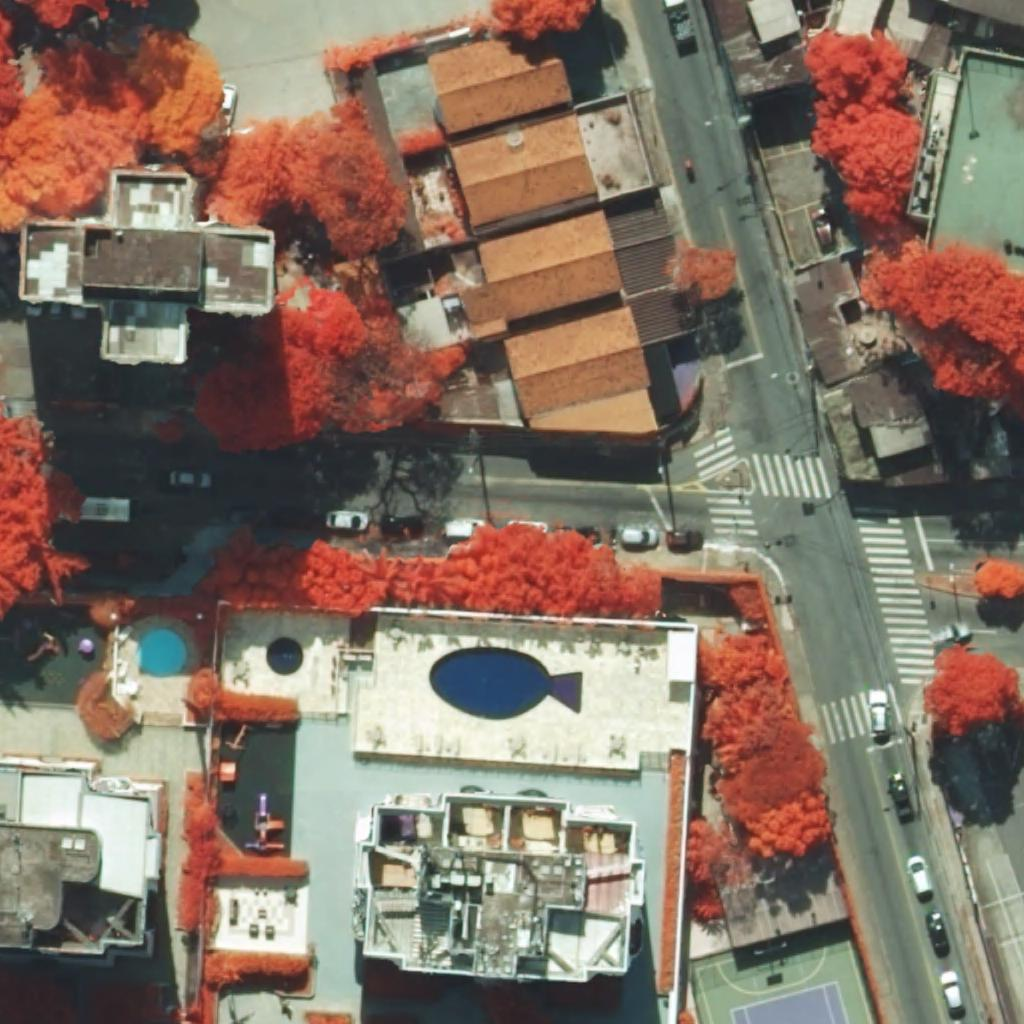pool: (462, 647, 583, 720), (135, 628, 187, 679), (266, 636, 303, 675)
